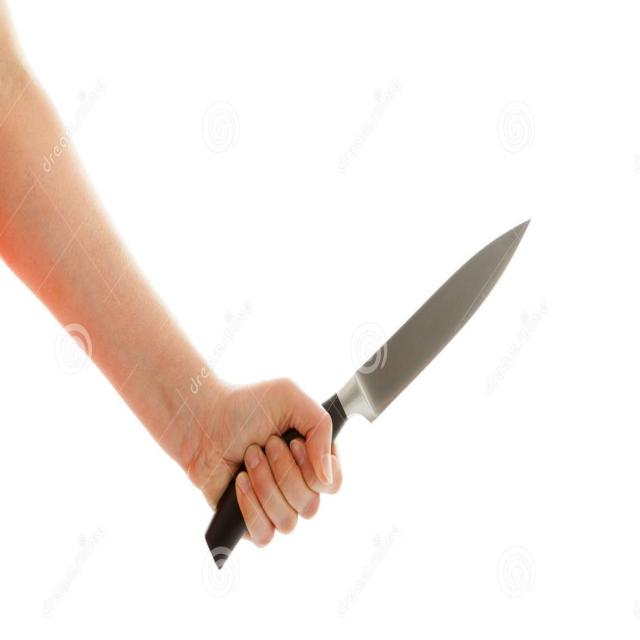knife: (209, 216, 536, 577)
